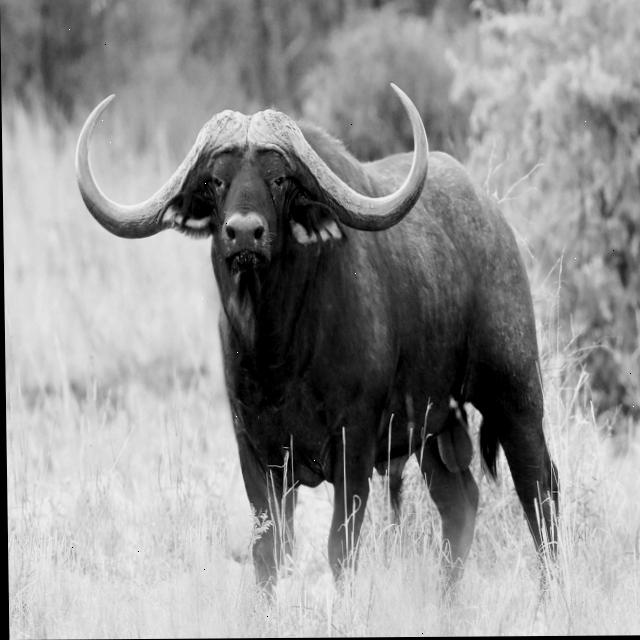Buffalo: (72, 82, 563, 606)
